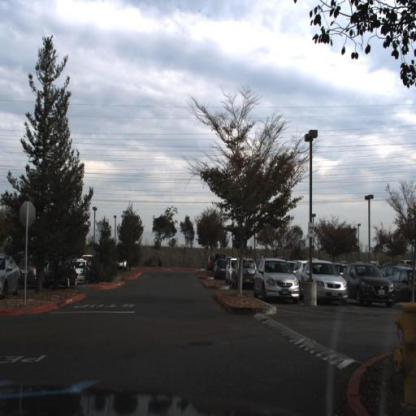car: (254, 259, 301, 303), (304, 260, 347, 307), (347, 265, 396, 305), (1, 254, 23, 302), (233, 257, 260, 293), (44, 261, 77, 290), (1, 256, 23, 299), (232, 261, 257, 290), (396, 269, 416, 305), (20, 256, 39, 292), (19, 260, 38, 289), (73, 259, 91, 287), (214, 258, 229, 281), (77, 259, 89, 285), (214, 258, 228, 279), (227, 257, 237, 285)
